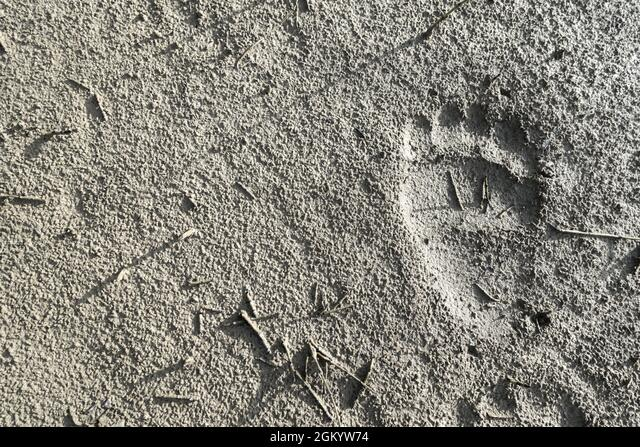bear: (381, 81, 589, 330)
